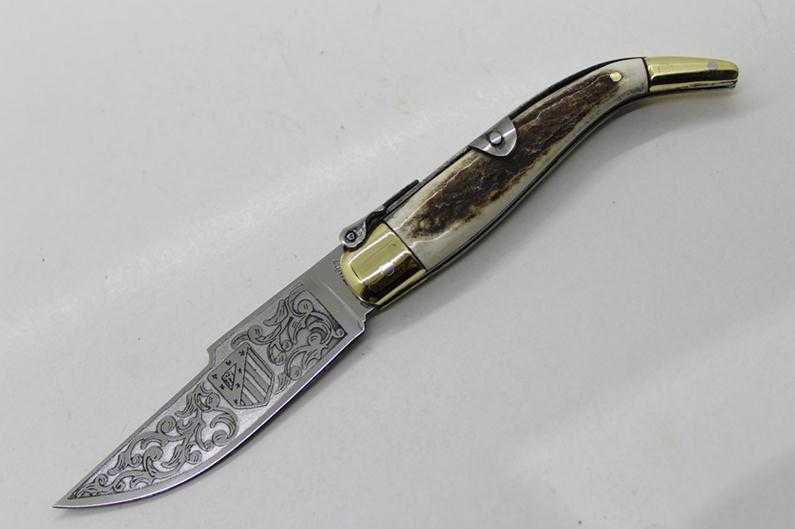knife: (46, 245, 390, 519)
